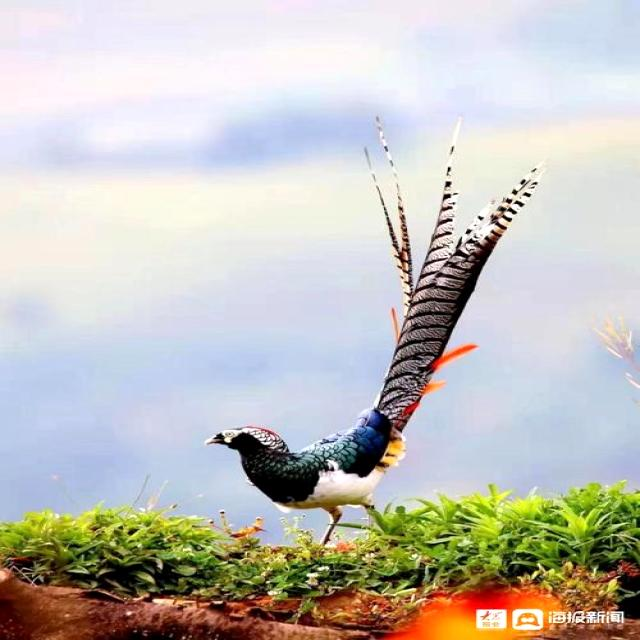Chrysolophus amherstiae: (376, 165, 540, 430)
